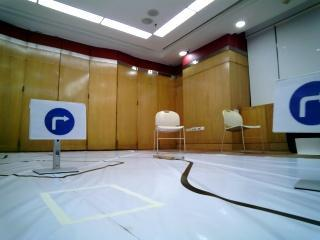right: (277, 79, 320, 131), (34, 101, 84, 138)
